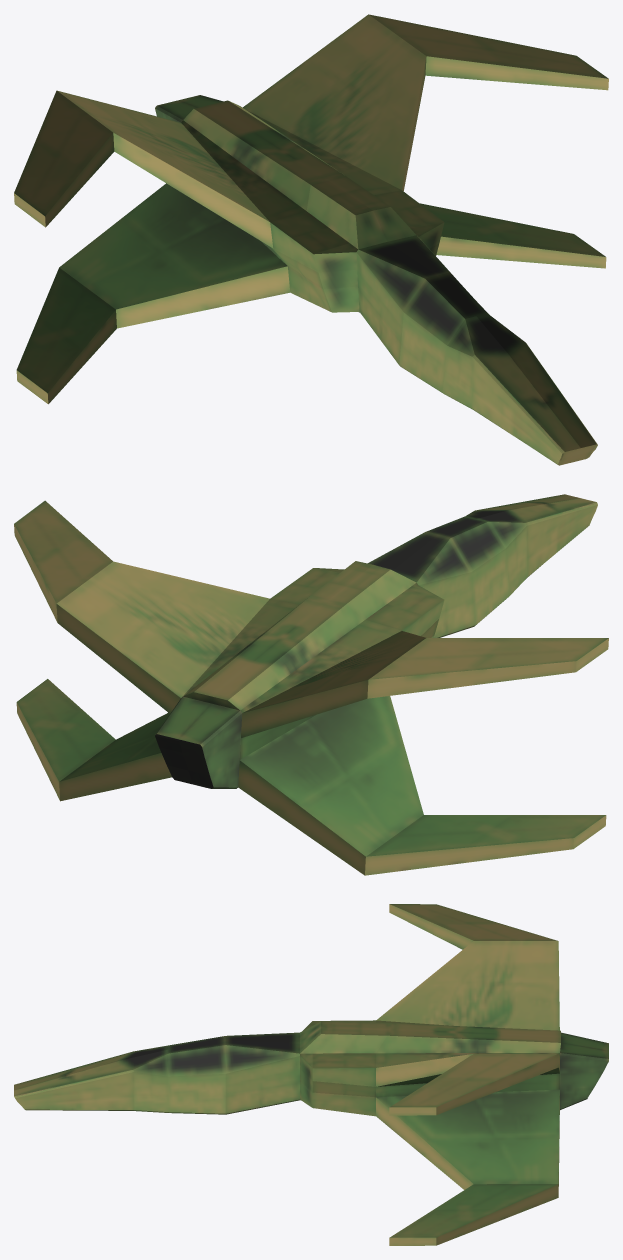
File: projectile_reflection.fbx
3 views of the same model, one above another, from view 1: azimuth 30°, elevation 25°; view 2: azimuth 150°, elevation 25°; view 3: azimuth 270°, elevation 25° (orthographic). The views are drawn at different scales.
Visible parts, largest first — view 1: Rumpf_LowPoly; view 2: Rumpf_LowPoly; view 3: Rumpf_LowPoly.
Part boxes in pixels (x1,y1,x2,y2): Rumpf_LowPoly: (14,14,608,465); Rumpf_LowPoly: (14,494,608,875); Rumpf_LowPoly: (14,904,608,1245).
Bounding box in the file's own units: 1896 × 2344 × 644.
Materials: 1 (1 with a texture image).
